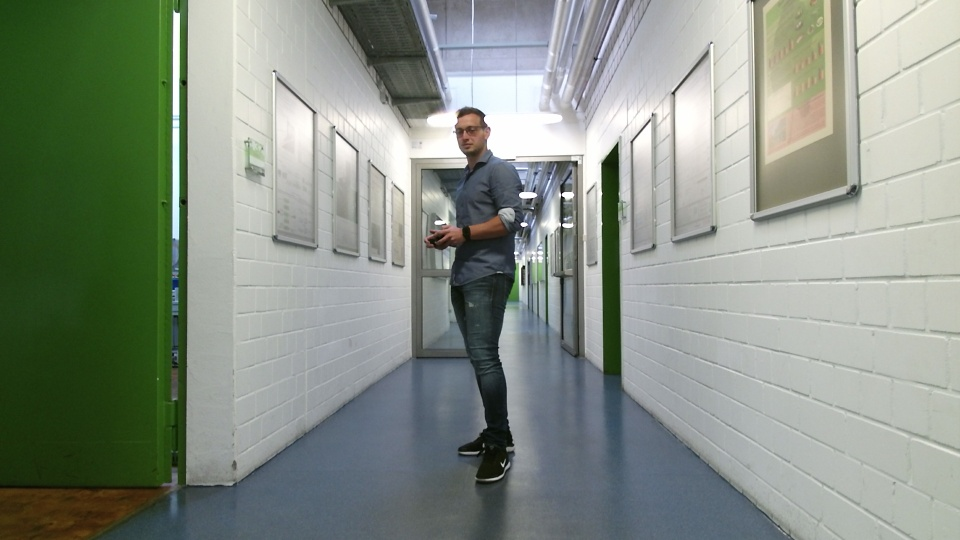Person: (422, 103, 535, 492)
